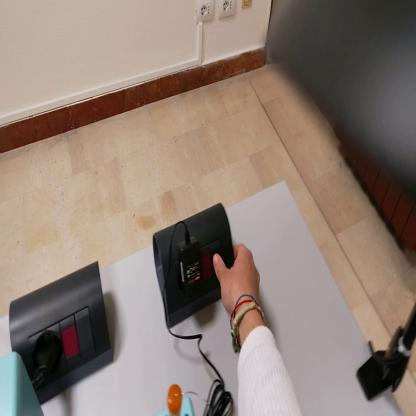hand: (213, 242, 262, 318)
socket: (10, 252, 111, 406), (151, 205, 233, 330)
welder base: (163, 386, 194, 415)
welder station: (2, 355, 44, 414)
